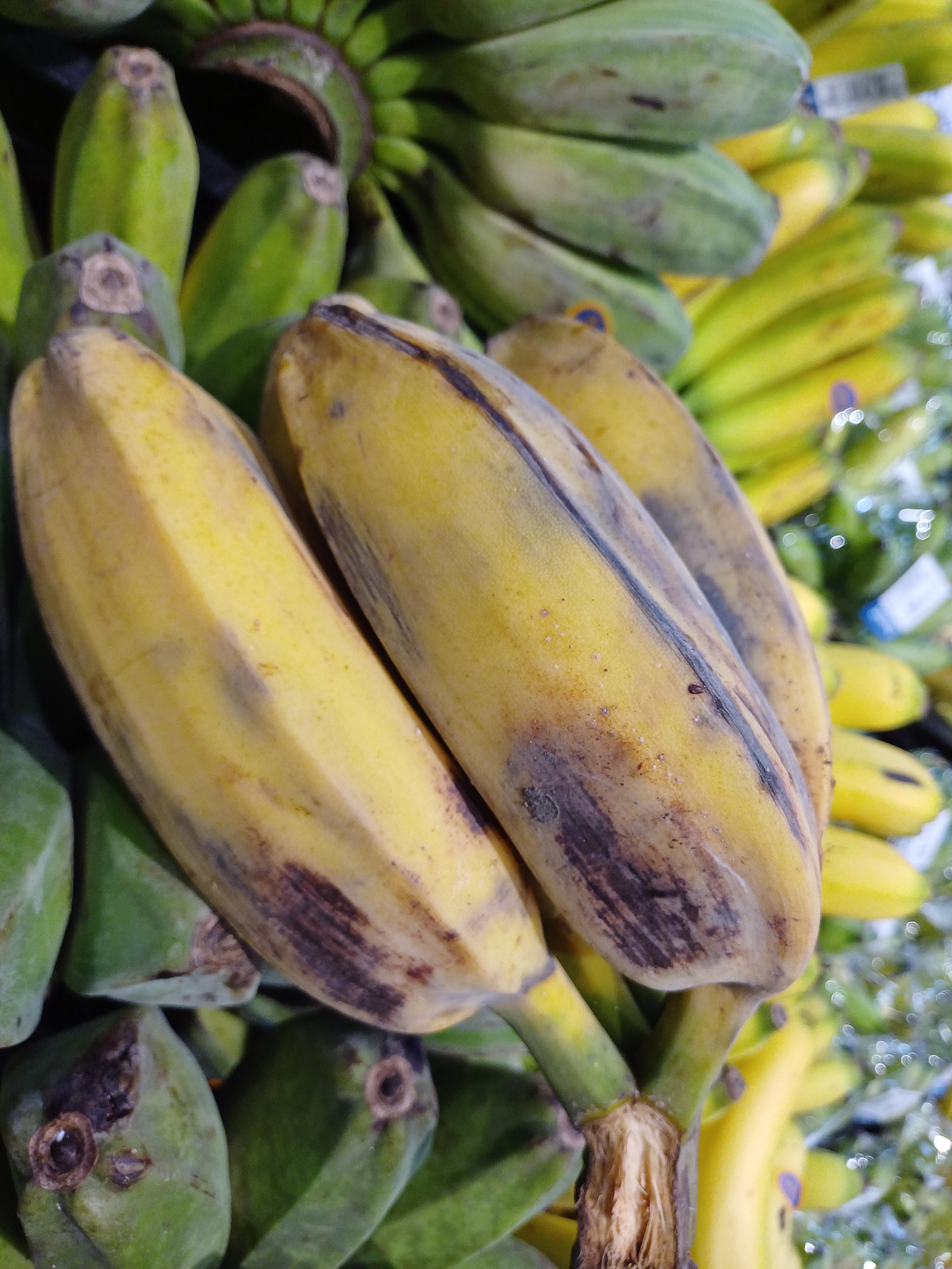ripe: (11, 295, 832, 1033)
underripe: (400, 0, 810, 374), (0, 1007, 583, 1269), (0, 47, 347, 425)
